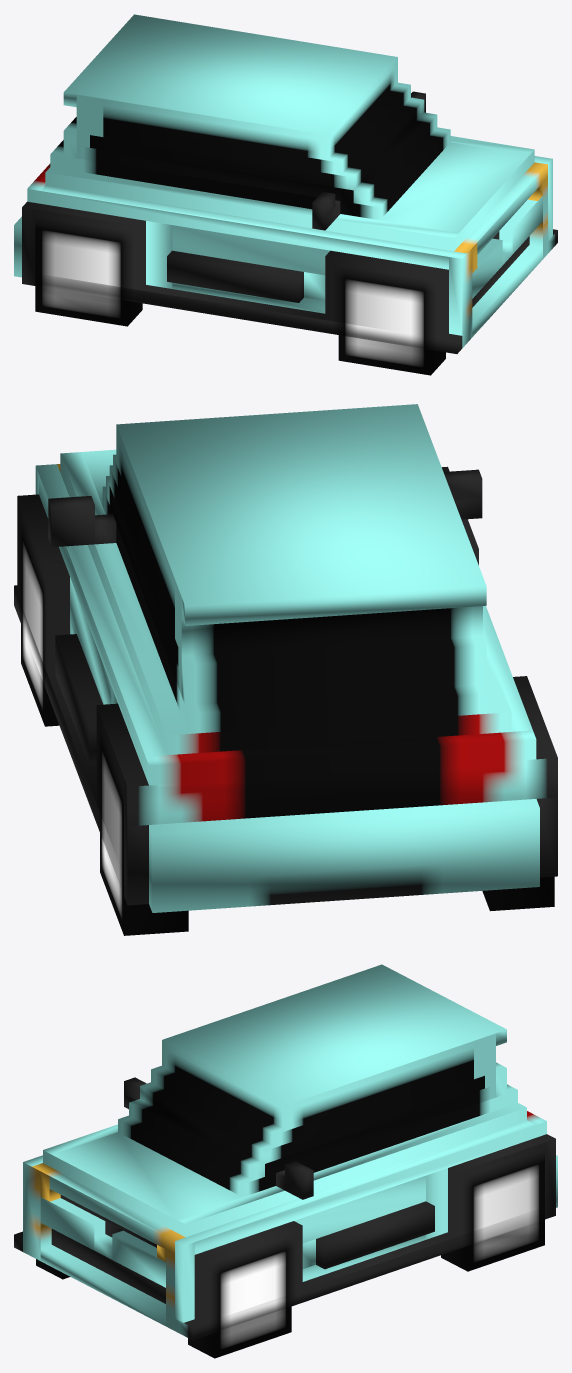
The model's file is city_car.002_lev3.glb.
3 views of the same model, one above another, from view 1: azimuth 30°, elevation 25°; view 2: azimuth 150°, elevation 25°; view 3: azimuth 270°, elevation 25° (orthographic). The views are drawn at different scales.
Visible parts, largest first — view 1: city_car.002_lev3; view 2: city_car.002_lev3; view 3: city_car.002_lev3.
Boxes of the visible parts, x1,y1,x2,y2 form: city_car.002_lev3: (14,14,557,375); city_car.002_lev3: (14,404,557,935); city_car.002_lev3: (14,964,557,1358).
Size of the model in its own units: 9.58 by 4.22 by 10.12.
1 material, 1 textured.
